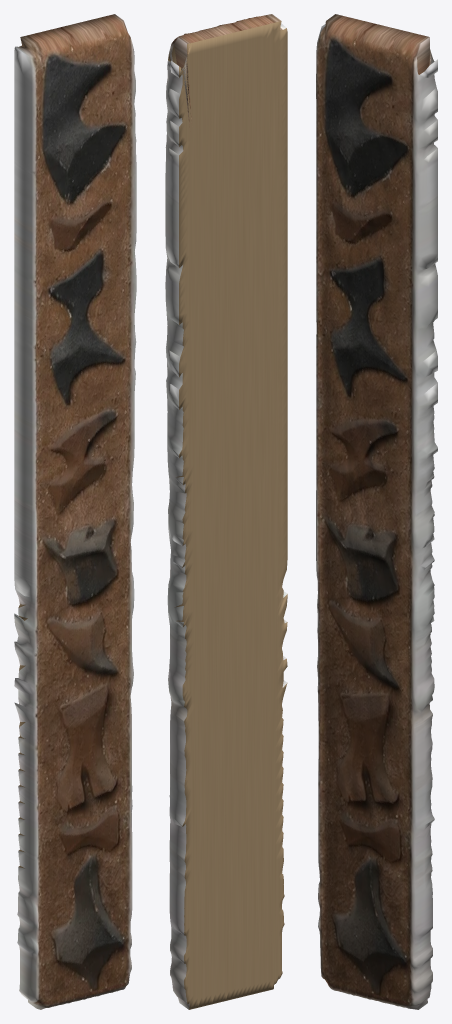
Rendered from escultura-esc-021.glb.
The picture shows the model from 3 angles, left to right: view 1: azimuth 30°, elevation 25°; view 2: azimuth 210°, elevation 25°; view 3: azimuth 330°, elevation 25°; orthographic projection.
Parts seen in each view (by area): view 1: world; view 2: world; view 3: world.
Boxes of the visible parts, x1=… form: world: x1=14, y1=14, x2=136, y2=1009; world: x1=165, y1=14, x2=287, y2=1009; world: x1=316, y1=14, x2=437, y2=1009.
Bounding box in the file's own units: 0.1621 × 1.38 × 0.0476.
Materials: 1 (1 with a texture image).
